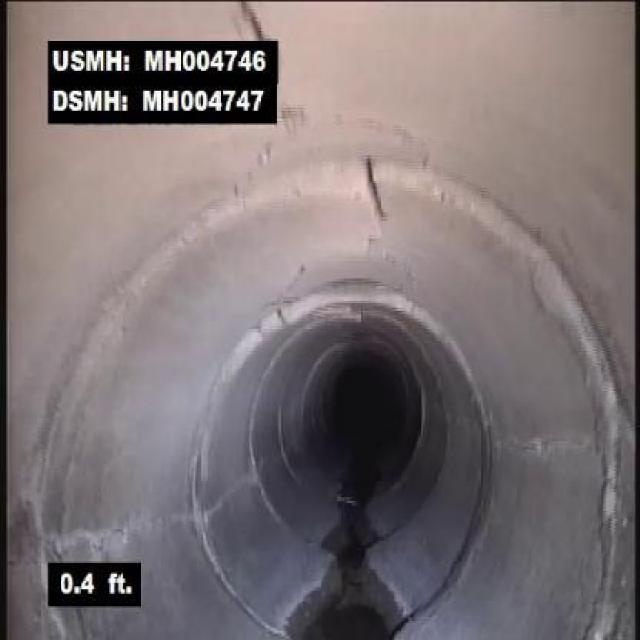Buckling: (337, 154, 385, 260)
Crack: (49, 508, 194, 555), (498, 428, 600, 458), (236, 2, 266, 40)
Joint offset: (272, 274, 434, 326)
